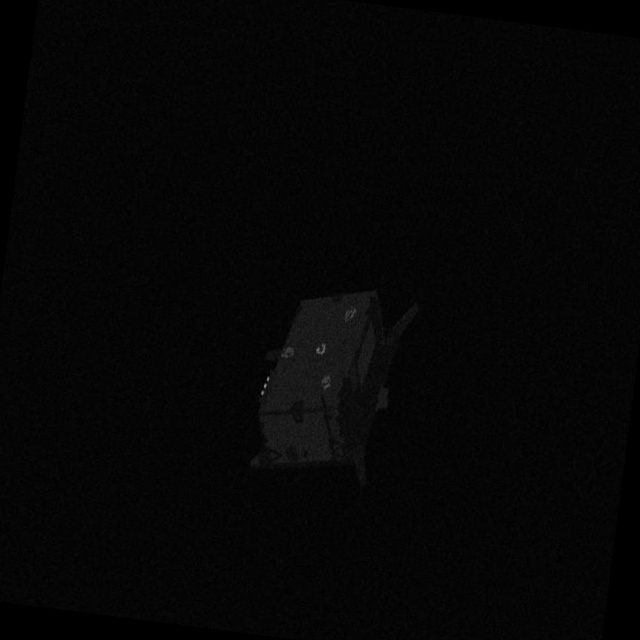medium_debris: (225, 263, 419, 499)
